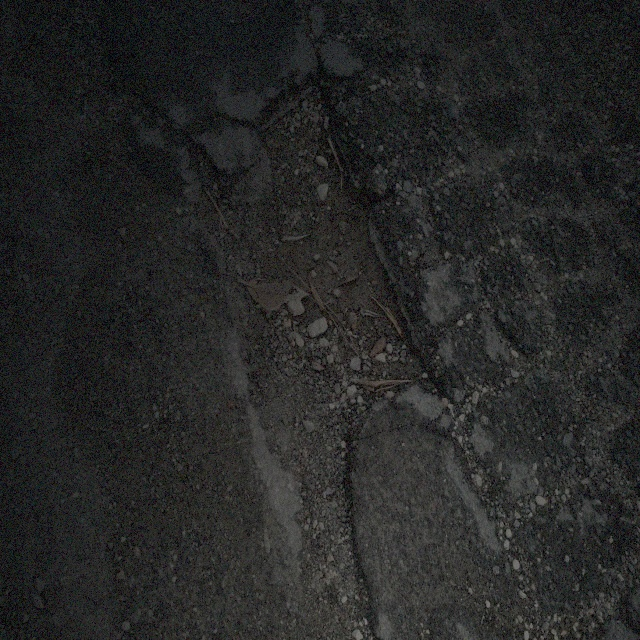pothole: (200, 55, 453, 427)
